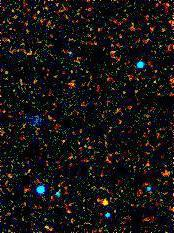star: (89, 190, 119, 220)
